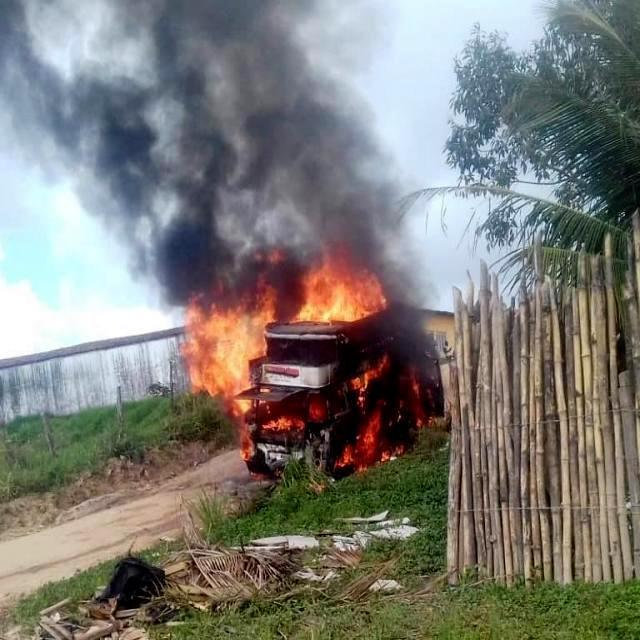Fire: (185, 288, 270, 409), (284, 262, 384, 326), (346, 358, 396, 466), (259, 414, 316, 440)
Smoke: (0, 0, 435, 282)
